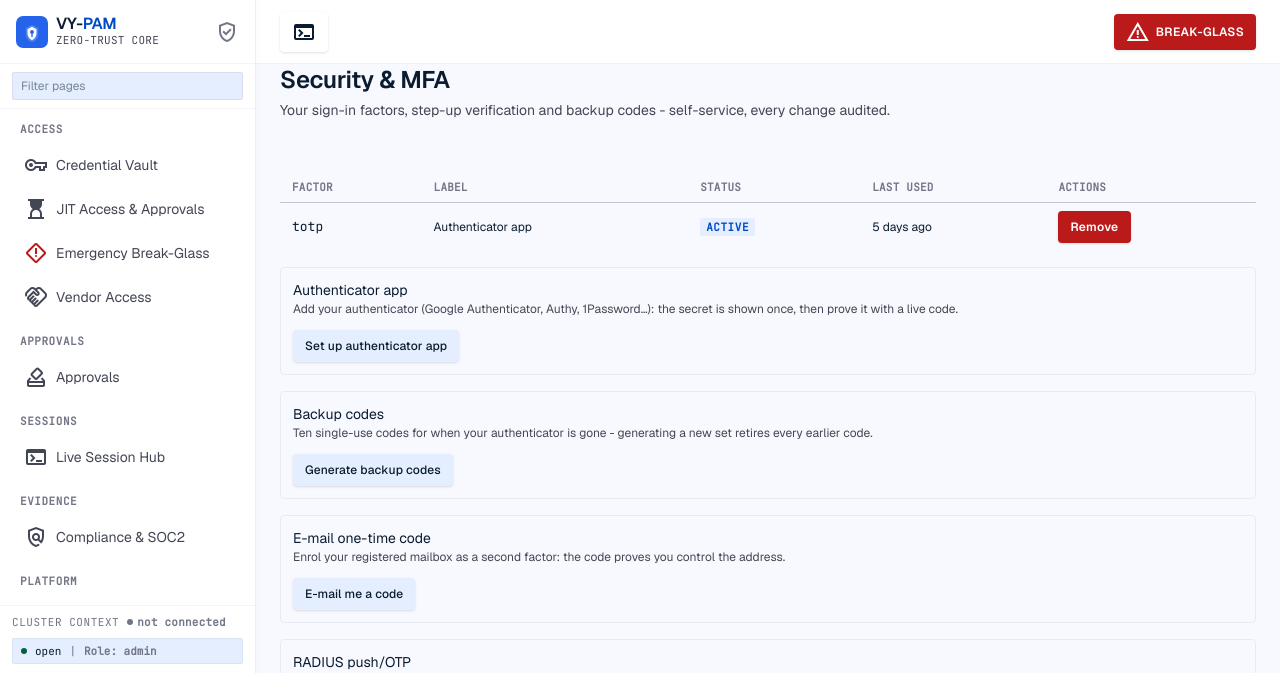
Test: SecurityPage (ADR-0017 batch 11.8, contract-shaped) › refuses factor removal with the captured last-factor 403 verbatim
This screenshot has width=1280, height=673.
Click the button "Remove". click: x=1094, y=227
box: left=1058, top=211, right=1130, bottom=243
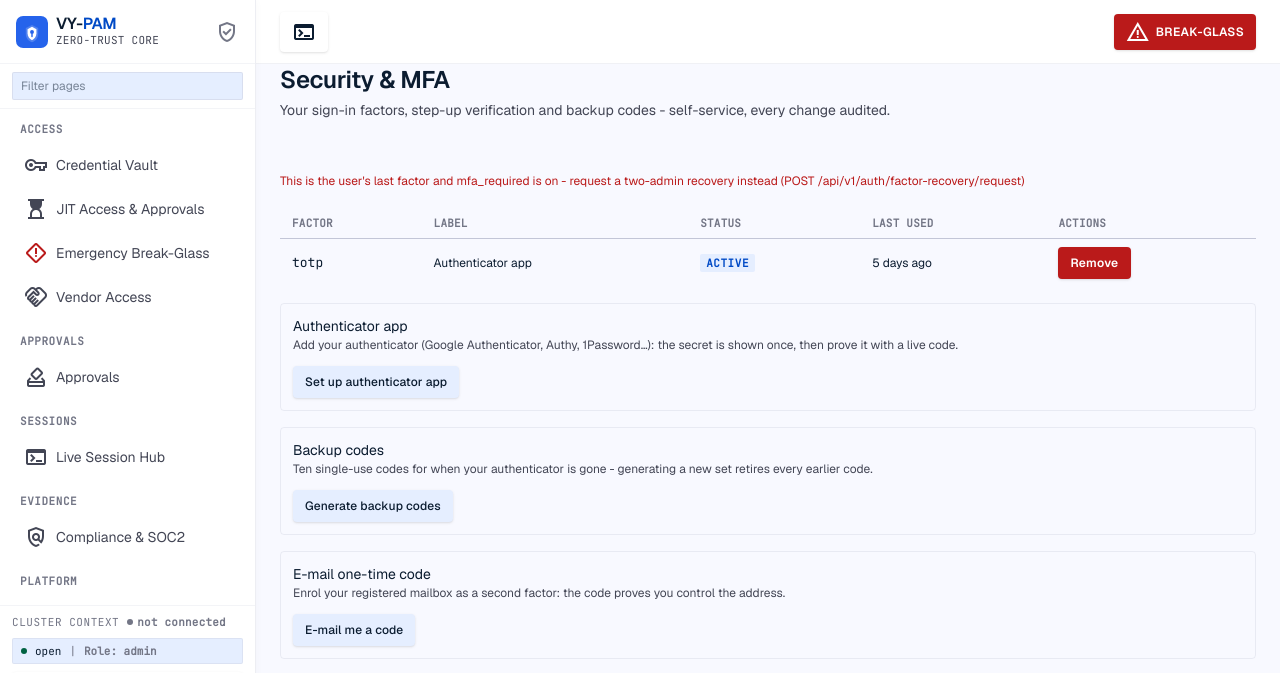
Check: the text "Authenticator app" is shown, box left=434, top=255, right=532, bottom=271
Check: the text "This is the user's last factor and mfa_required is on - request a two-admin recovery instead (POST /api/v1/auth/factor-r" is shown, box left=280, top=173, right=1024, bottom=189
